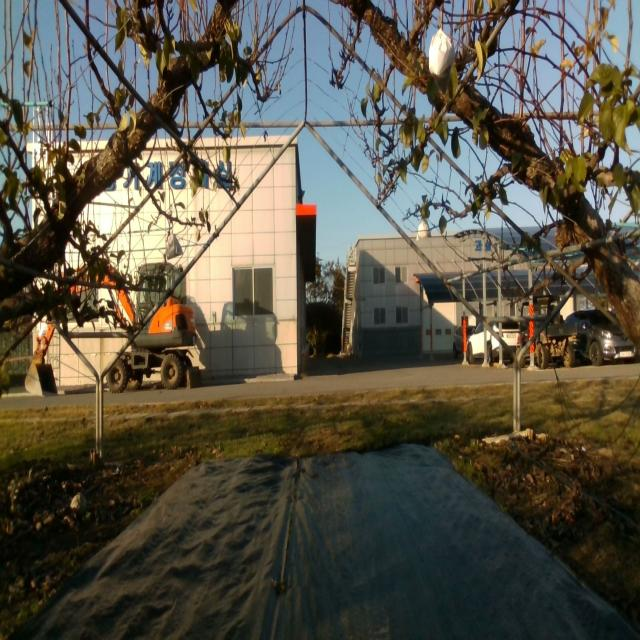pearbags: (431, 24, 458, 96), (165, 234, 183, 260), (416, 218, 431, 242)
